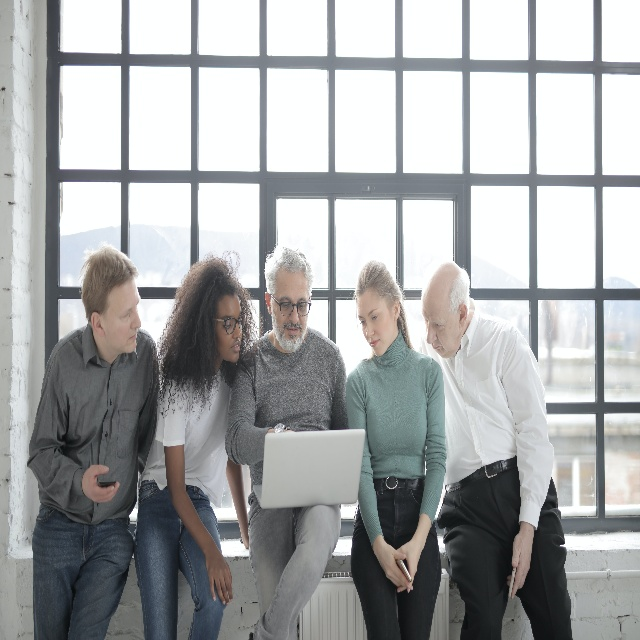Gafas: (224, 309, 249, 335), (278, 300, 312, 319)
Sin_guantes: (505, 528, 534, 600), (382, 544, 413, 591), (82, 463, 120, 501), (205, 554, 233, 604), (394, 541, 417, 593)
